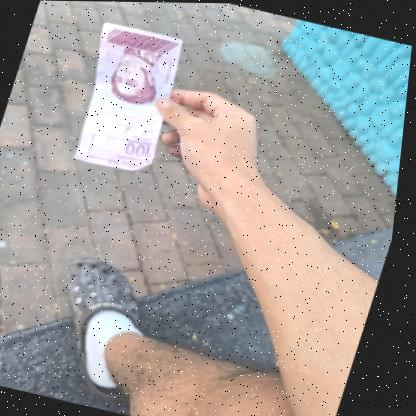one_hundred-front-vef: (62, 20, 192, 176)
